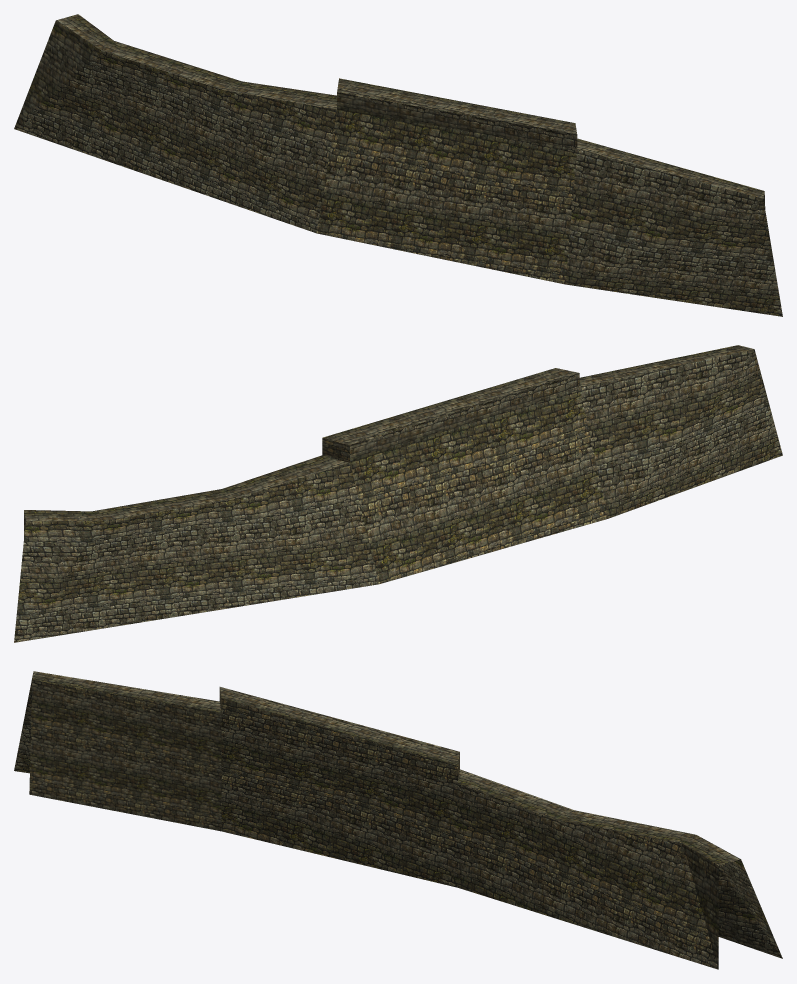
The picture shows the model from 3 angles, top to bottom: view 1: azimuth 90°, elevation 25°; view 2: azimuth 150°, elevation 25°; view 3: azimuth 270°, elevation 25°; orthographic projection.
Parts seen in each view (by area): view 1: TN2_W13-col; view 2: TN2_W13-col; view 3: TN2_W13-col.
Boxes of the visible parts, x1,y1,x2,y2 form: TN2_W13-col: (14,14,782,316); TN2_W13-col: (14,345,782,642); TN2_W13-col: (14,671,782,969).
Bounding box in the file's own units: 26.86 × 8.41 × 43.92.
Materials: 2 (2 with a texture image).
